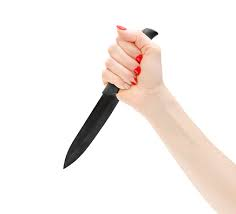weapon-unusual: (59, 25, 162, 172)
